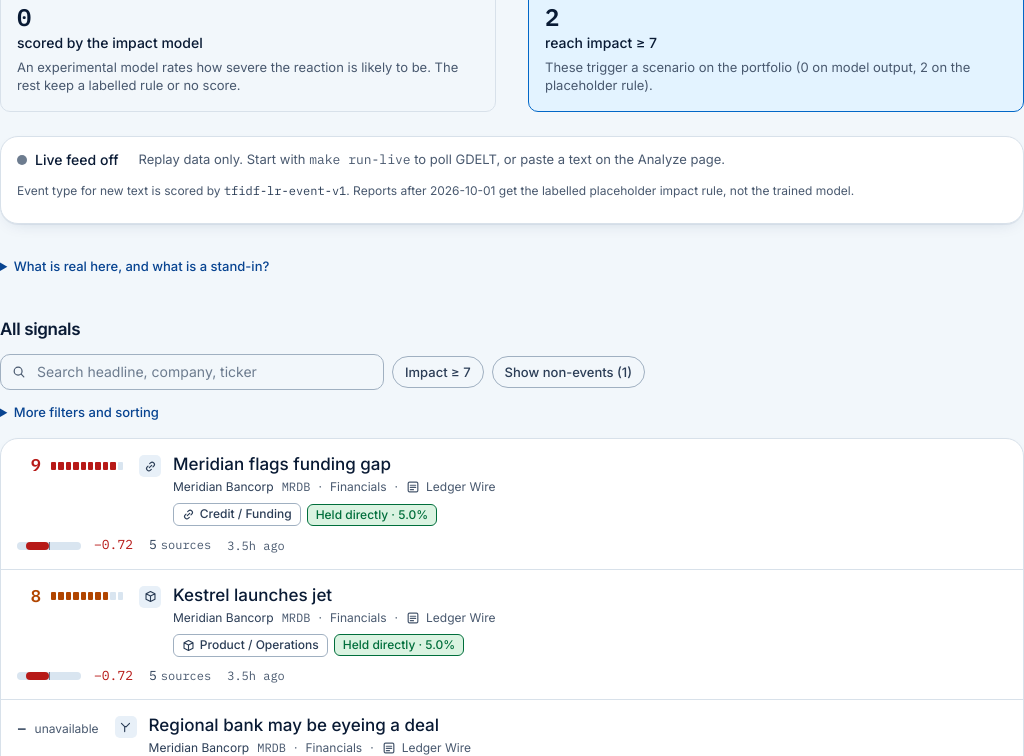
Scenario: Real-source replay with the trained event model › hides what the model judged not to be a market event, says how many, and can show them
The image size is (1024, 756).
(page scrolled)
Expected: the text "Great chart lol join discord" is not shown
Expected: the text "Regional bank may be eyeing a deal" is shown, 149,714 -> 471,736
What coordinates should you click on to do the following:
click the button "Show non-events (1)"
I would click on:
 (568, 372)
Its box is 492,356 -> 645,388.
(page scrolled)
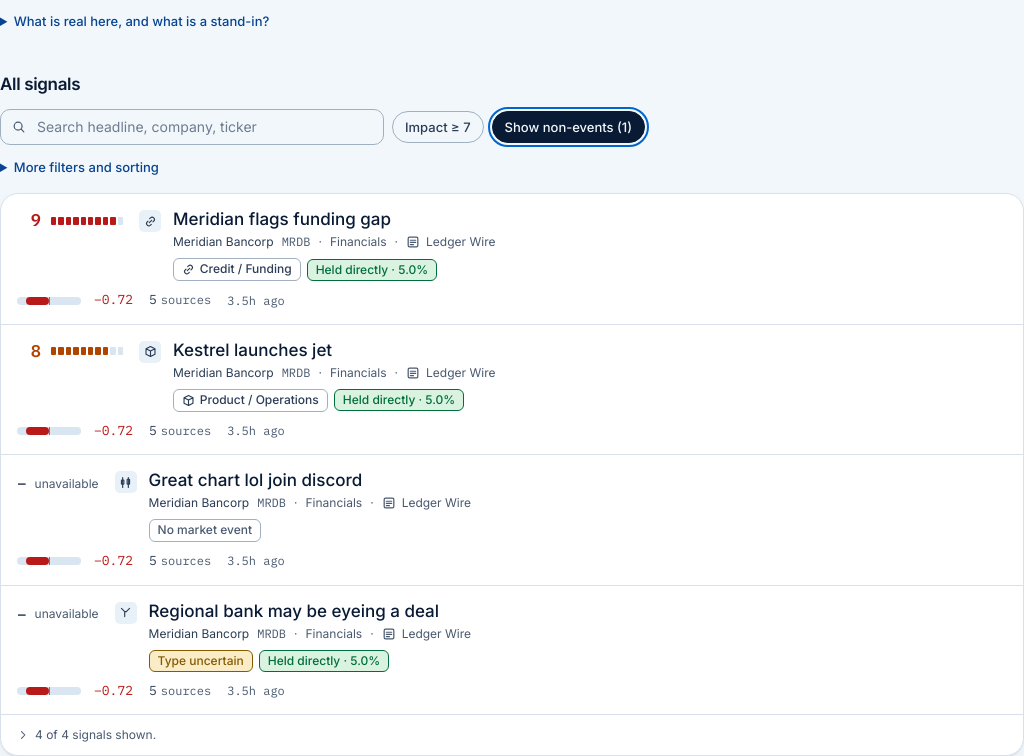
Now the text "Great chart lol join discord" is shown, box 149,470 -> 362,490
Now the text "No market event" is shown, box 149,519 -> 261,542
